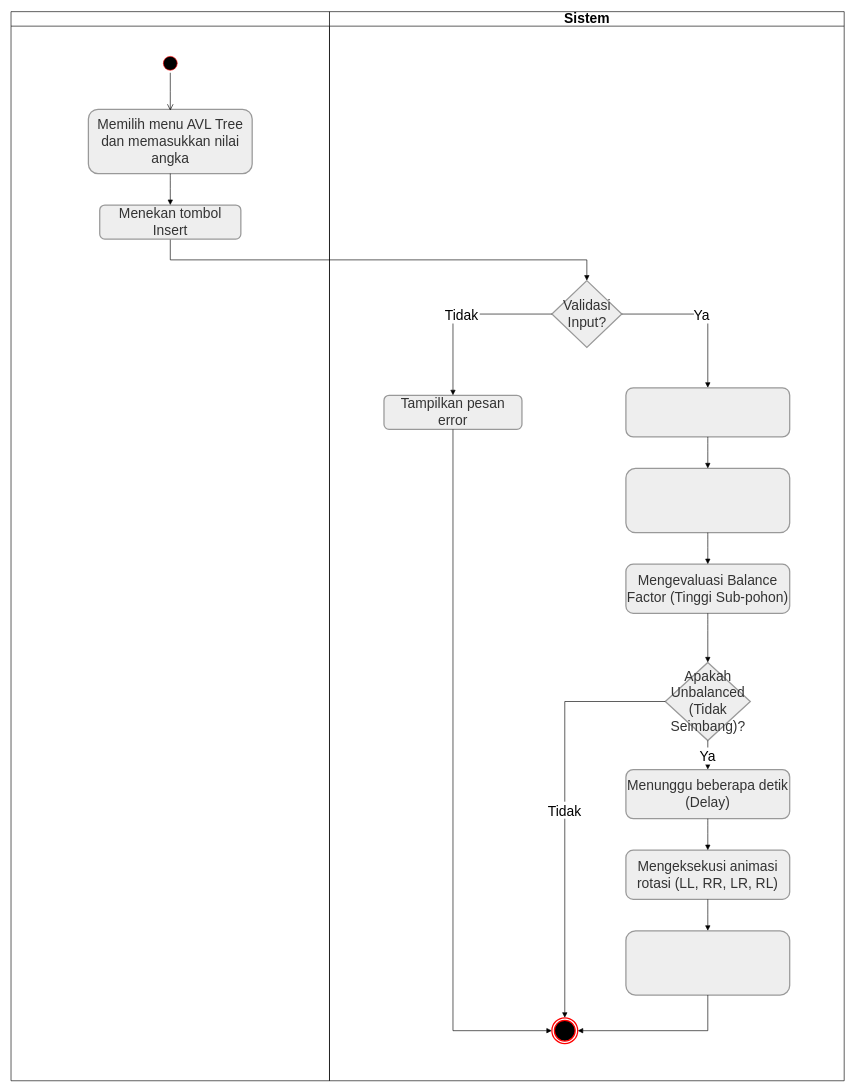
The diagram is 856 pixels wide and 1092 high, and some of its shapes have lost their labels. The box of each missing label's shape, as (x1, y1, x2, y2) in pixels:
Menampilkan teks deskripsi jenis rotasi di layar: (625, 930, 790, 995)
Menghitung posisi node berdasarkan aturan BST: (625, 387, 790, 437)
Merender node baru di kanvas & menyorot baris kode ADT: (625, 467, 790, 533)
Pengguna: (10, 11, 329, 1081)
